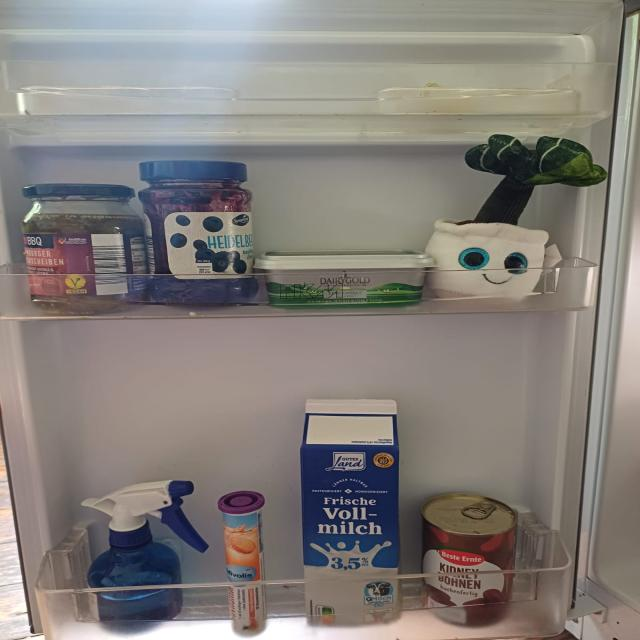Beans: (413, 484, 525, 622)
Butter: (258, 249, 432, 302)
Jam: (137, 157, 255, 303)
Milk: (299, 396, 405, 627)
Pickle: (14, 181, 150, 309)
Soft toy: (443, 139, 594, 302)
Spray: (70, 483, 210, 628)
Vitamin C: (210, 487, 278, 633)
